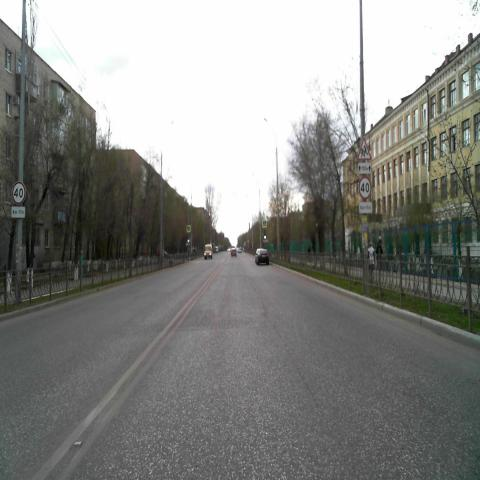3_24: (12, 180, 26, 205), (358, 175, 372, 199)
8_5_4: (358, 200, 372, 214), (11, 206, 25, 218)
